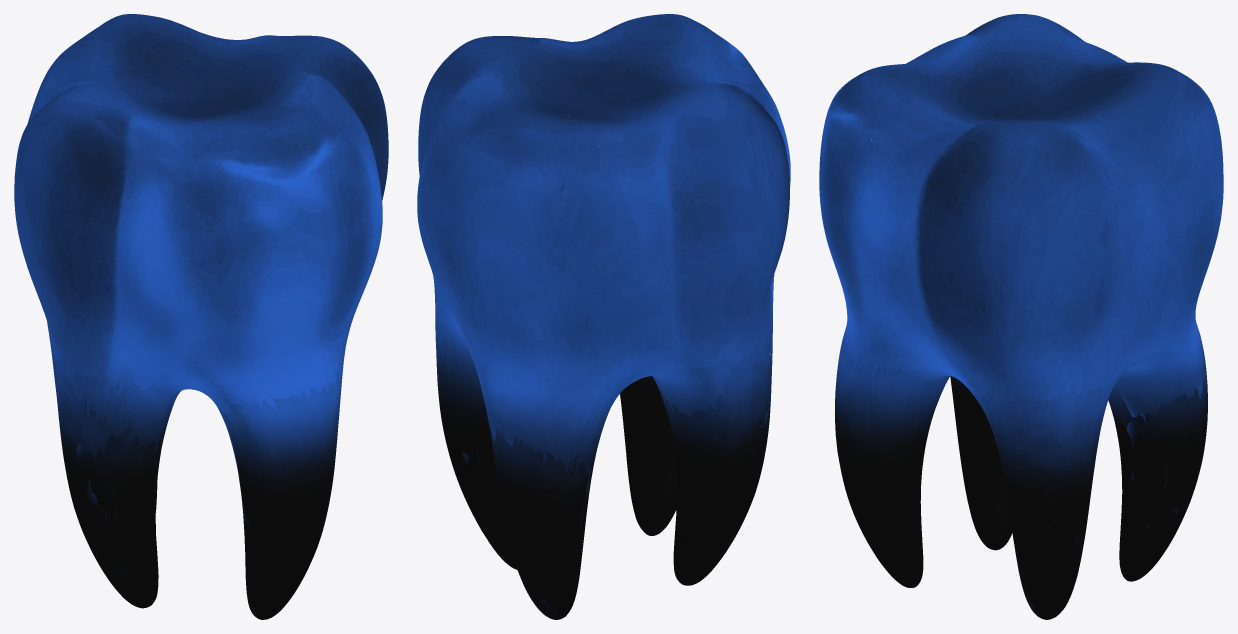
Rendered from tooth.glb.
The picture shows the model from 3 angles, left to right: view 1: azimuth 30°, elevation 25°; view 2: azimuth 150°, elevation 25°; view 3: azimuth 270°, elevation 25°; orthographic projection.
Visible parts, largest first — view 1: tripo_node_f1a732f5-5e91-4379-b533-96e4faa36fbd; view 2: tripo_node_f1a732f5-5e91-4379-b533-96e4faa36fbd; view 3: tripo_node_f1a732f5-5e91-4379-b533-96e4faa36fbd.
Boxes of the visible parts, left/top/right/bottom form: tripo_node_f1a732f5-5e91-4379-b533-96e4faa36fbd: left=14, top=14, right=388, bottom=619; tripo_node_f1a732f5-5e91-4379-b533-96e4faa36fbd: left=417, top=14, right=790, bottom=619; tripo_node_f1a732f5-5e91-4379-b533-96e4faa36fbd: left=819, top=14, right=1223, bottom=619.
Bounding box in the file's own units: 0.6976 × 0.979 × 0.7023.
1 material, 1 textured.
